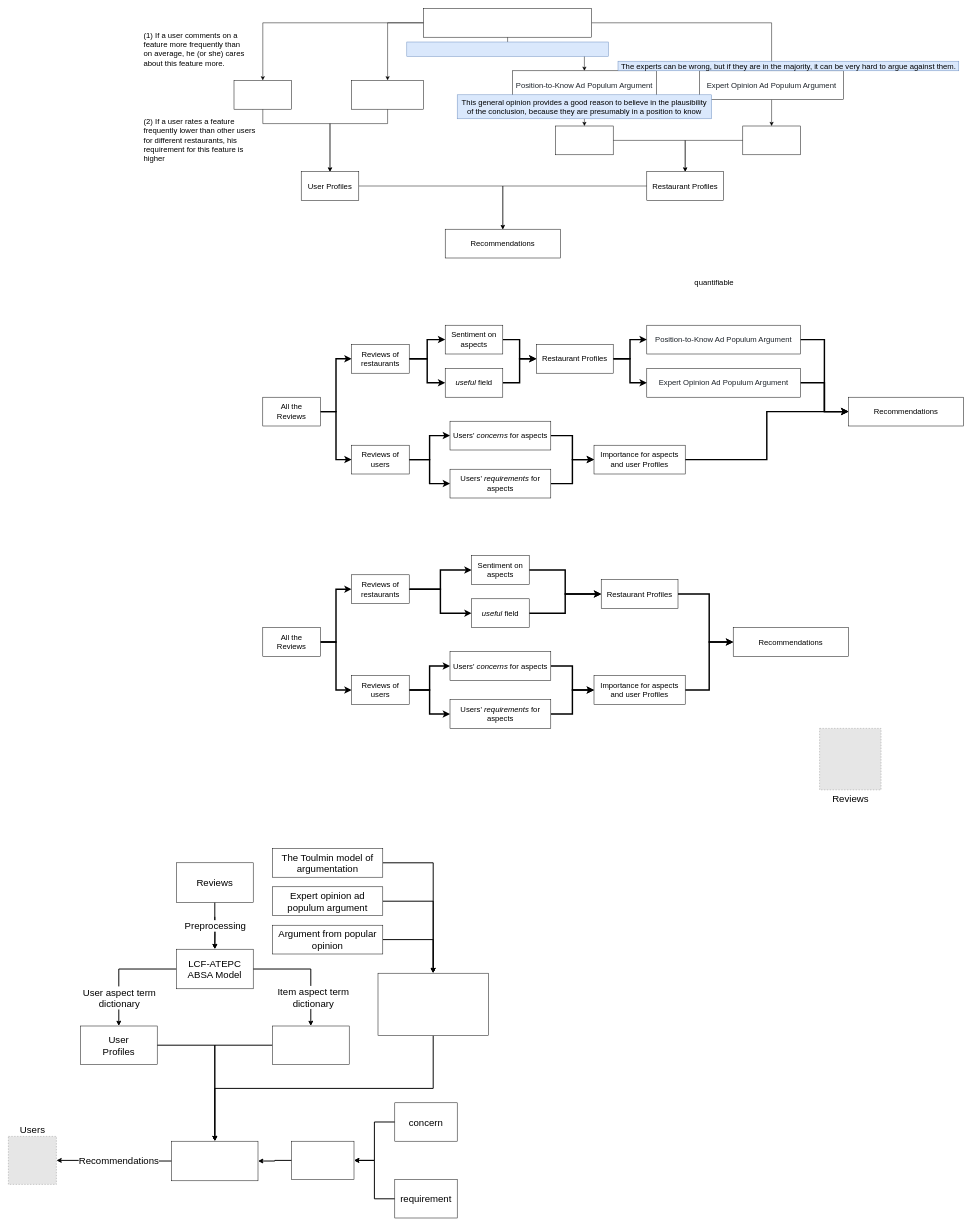
This 972x1226 diagram has some shape labels left out. Grey dashed boxes stand in for pictures. The centre of each missing label's shape, as x and y in pixels:
"Argumentation from aspect-based polling and satisfaction ranking" belongs at (433,1004).
"Argumentation Scheme: populum scheme" belongs at (507,22).
"Item Profiles" belongs at (310,1045).
"Recommendation System" belongs at (214,1161).
"review" belongs at (584,140).
"satisfaction" belongs at (322,1160).
"The majority hold this opinion; therefore, it is the truest." belongs at (507,49).
"useful" belongs at (771,140).
"User concern" belongs at (263,94).
"User requirement" belongs at (387,94).
